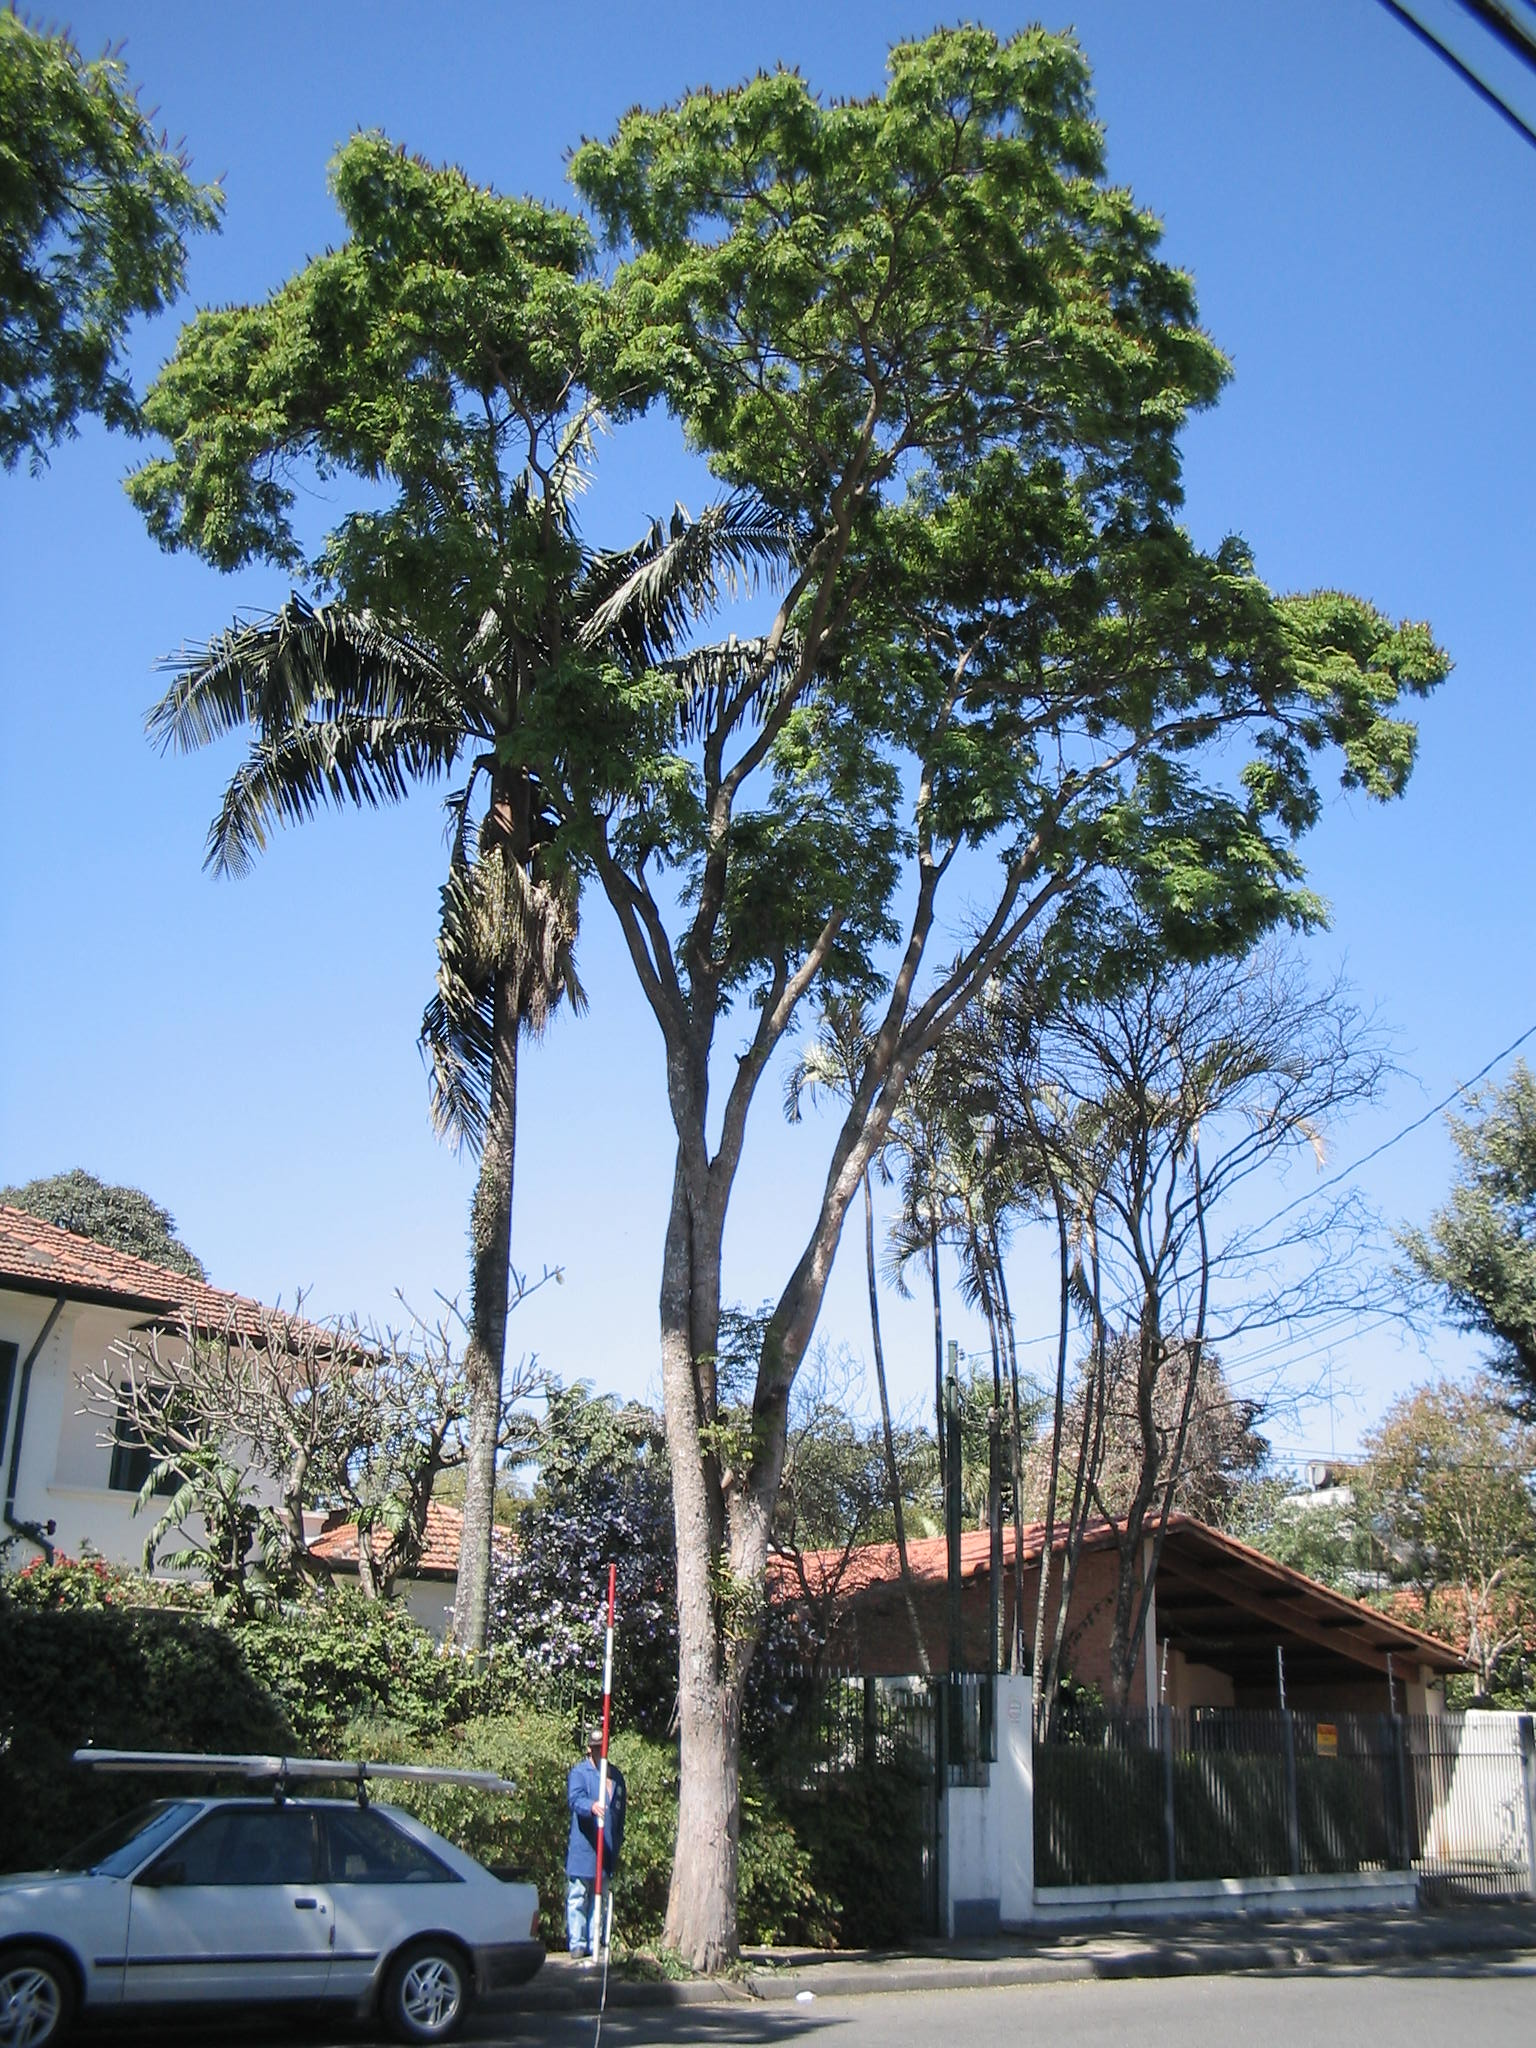crown: (127, 26, 1446, 1076)
stem: (629, 1675, 803, 1983)
stick: (555, 1558, 649, 1954)
tree: (119, 29, 1459, 1983)
